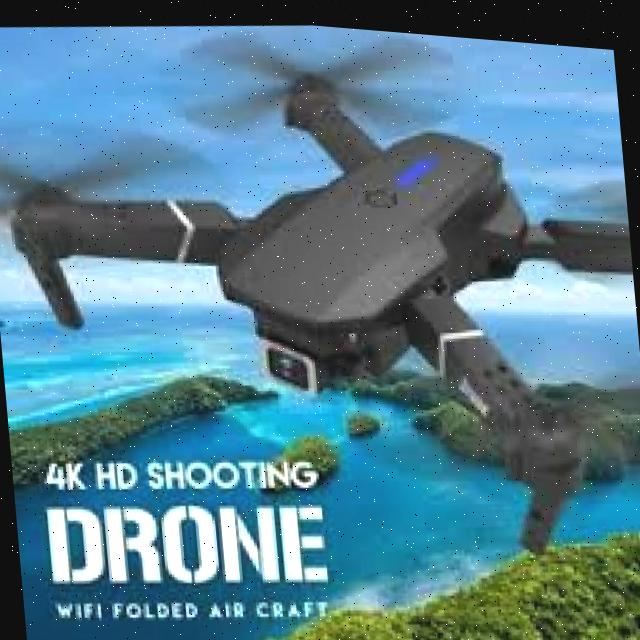drone: (0, 0, 640, 608)
